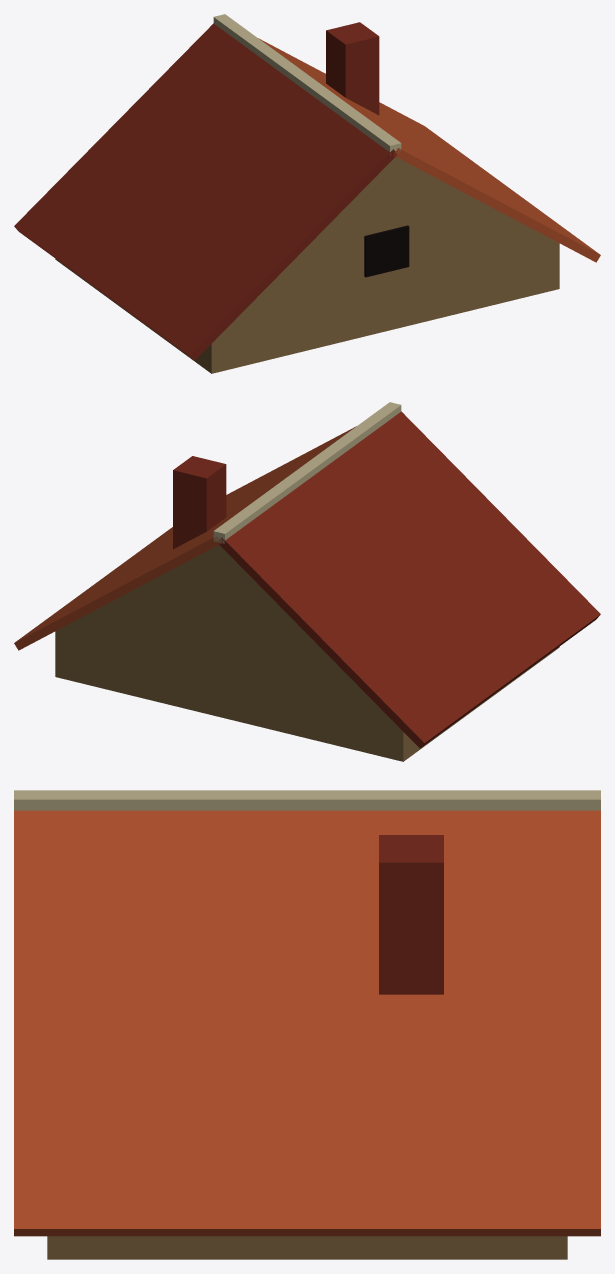
The model's file is drowned_roof.glb.
The picture shows the model from 3 angles, top to bottom: view 1: azimuth 30°, elevation 25°; view 2: azimuth 150°, elevation 25°; view 3: azimuth 270°, elevation 25°; orthographic projection. The views are drawn at different scales.
Parts seen in each view (by area): view 1: drowned_roof; view 2: drowned_roof; view 3: drowned_roof.
Part boxes in pixels (bbox=[...]): drowned_roof: bbox=[14, 14, 600, 373]; drowned_roof: bbox=[14, 402, 600, 761]; drowned_roof: bbox=[14, 790, 600, 1259].
Bounding box in the file's own units: 4.25 × 1.97 × 3.16.
